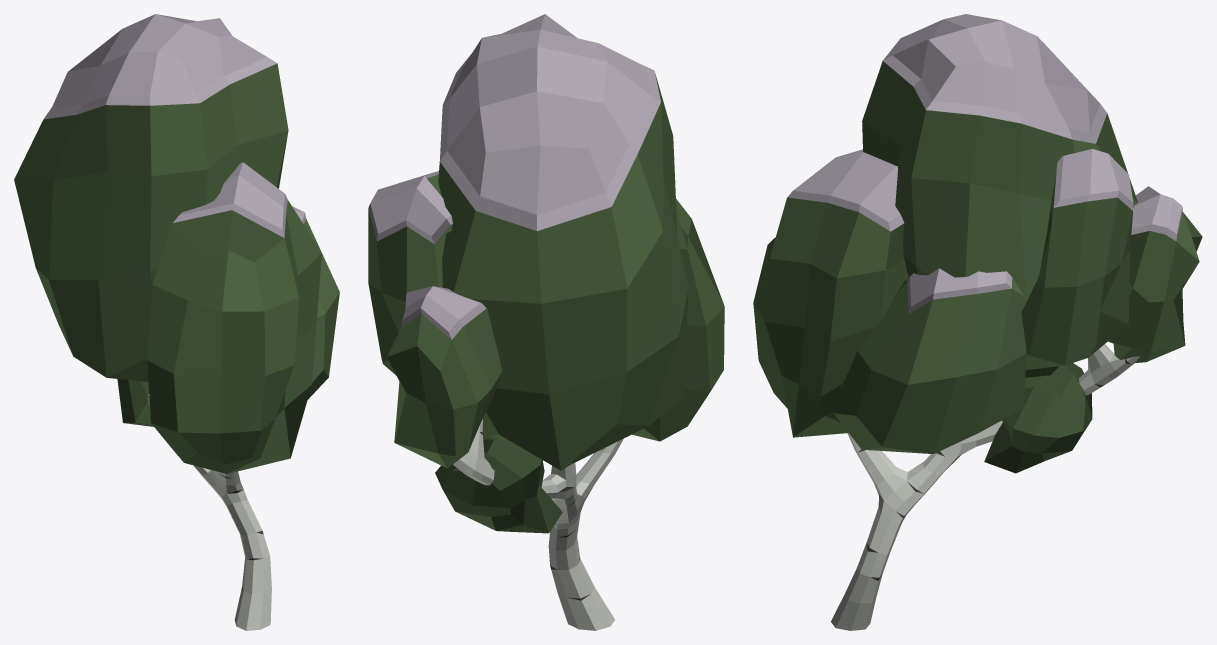
Rendered from BirchTree_Snow_1.gltf.
3 renders of one model, left to right at view 1: azimuth 30°, elevation 25°; view 2: azimuth 150°, elevation 25°; view 3: azimuth 270°, elevation 25°, orthographic. The views are drawn at different scales.
Visible parts, largest first — view 1: BirchTree_Snow_1; view 2: BirchTree_Snow_1; view 3: BirchTree_Snow_1.
Boxes of the visible parts, x1,y1,x2,y2 form: BirchTree_Snow_1: (14, 14, 339, 630); BirchTree_Snow_1: (368, 14, 724, 630); BirchTree_Snow_1: (753, 14, 1202, 630).
Size of the model in its own units: 1.7 by 3.59 by 2.48.
